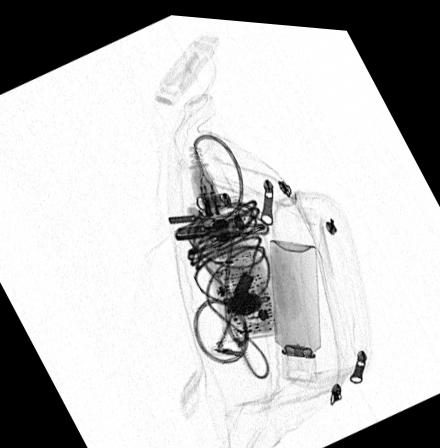Sprayer: (269, 234, 321, 375)
